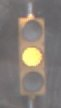Yellow: (12, 10, 44, 108)
